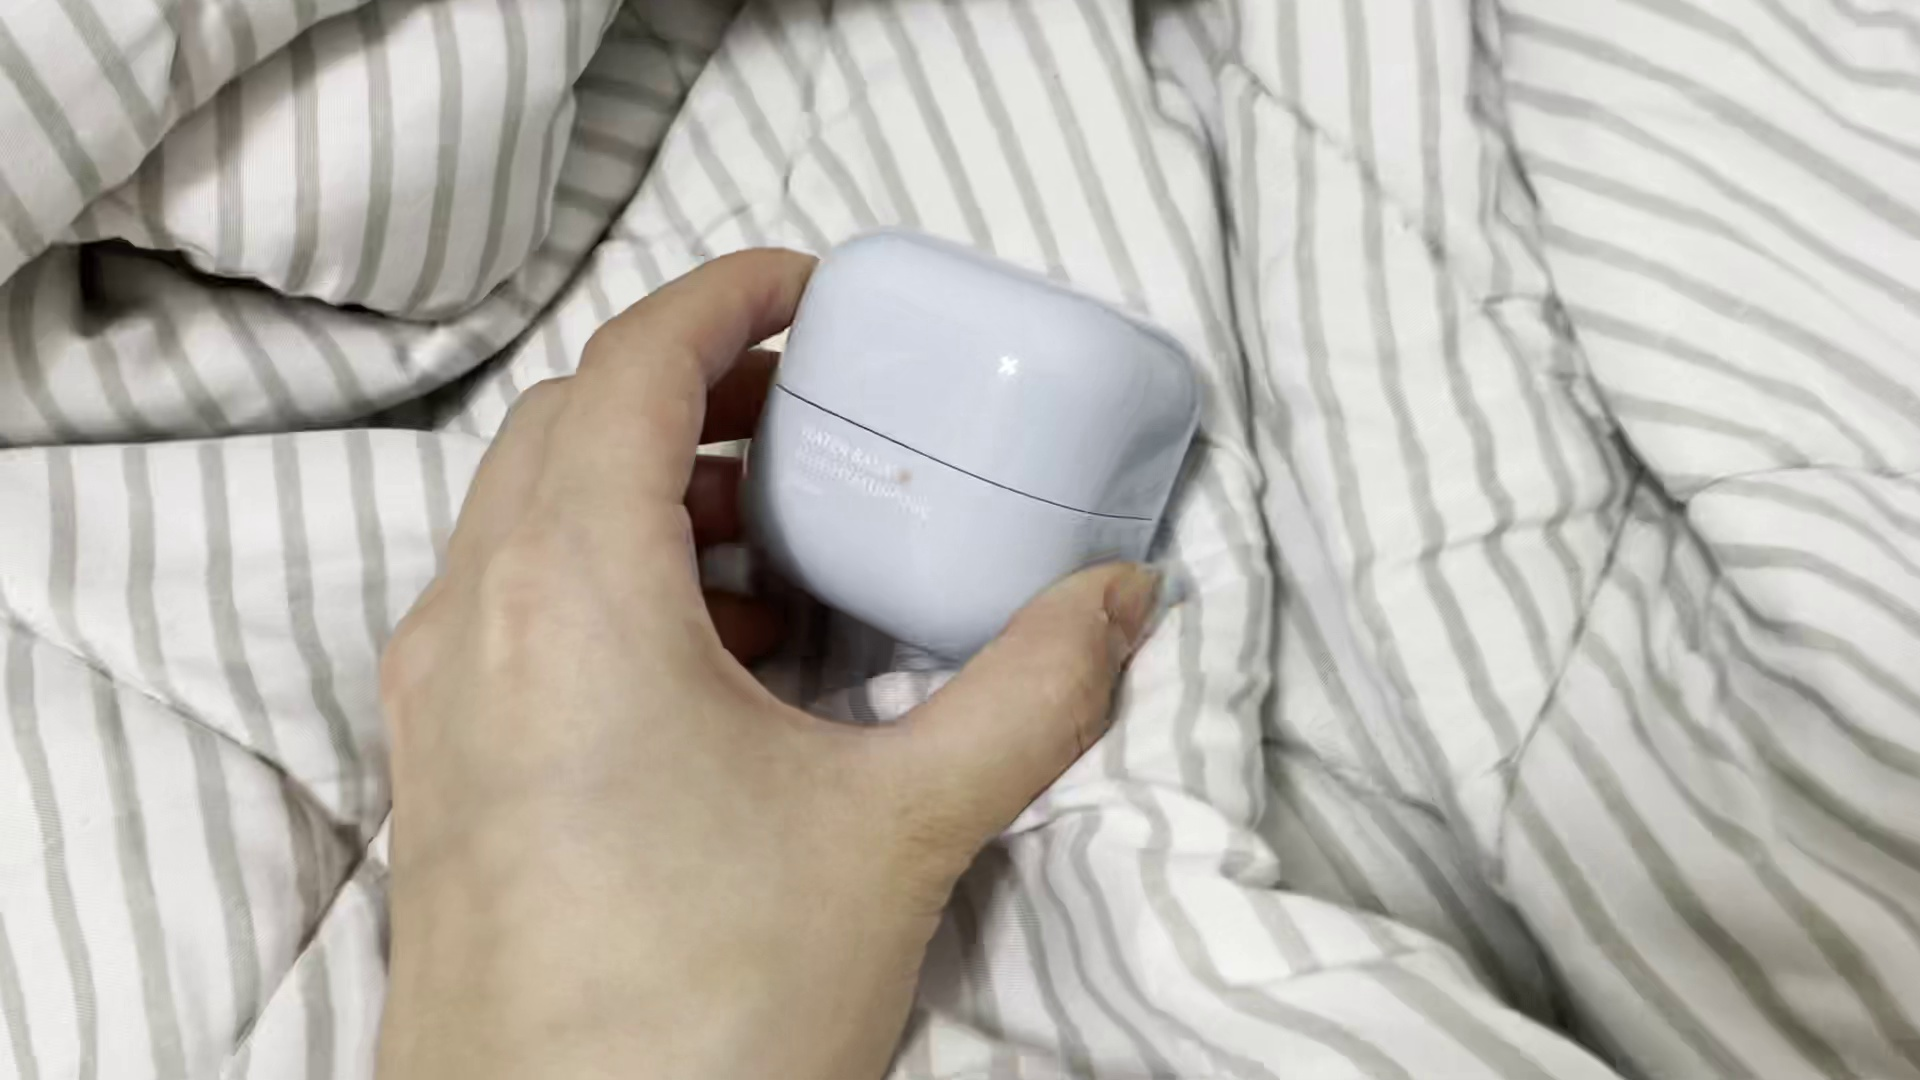cream: (740, 229, 1201, 670)
